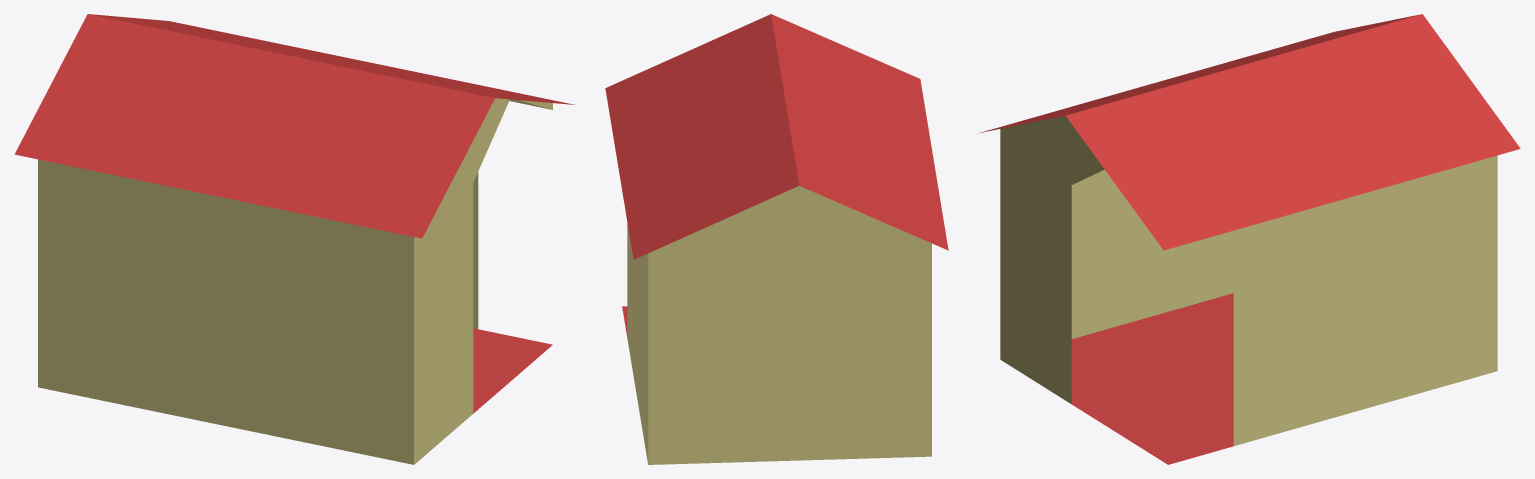
3 views of the same model, side by side, from view 1: azimuth 30°, elevation 25°; view 2: azimuth 150°, elevation 25°; view 3: azimuth 270°, elevation 25° (orthographic). The views are drawn at different scales.
Size of the model in its own units: 15.57 by 16.36 by 9.88.
